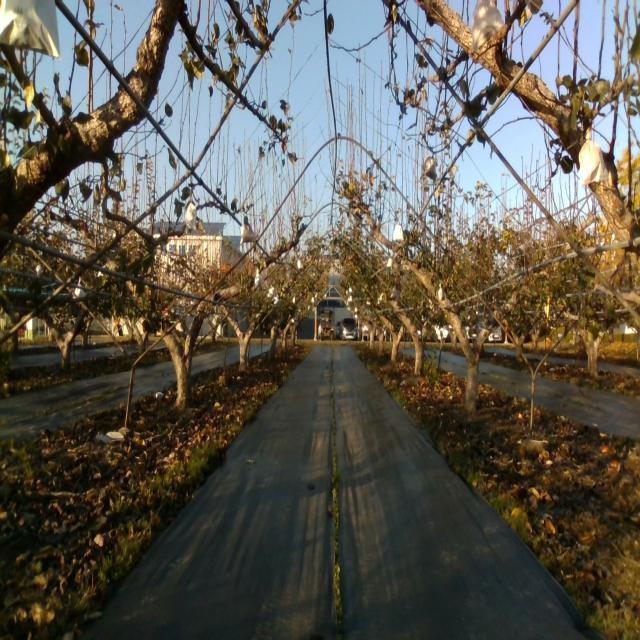pearbags: (0, 0, 61, 59), (580, 128, 610, 188), (472, 0, 503, 56), (184, 203, 197, 230), (240, 222, 254, 244), (424, 155, 436, 179)
